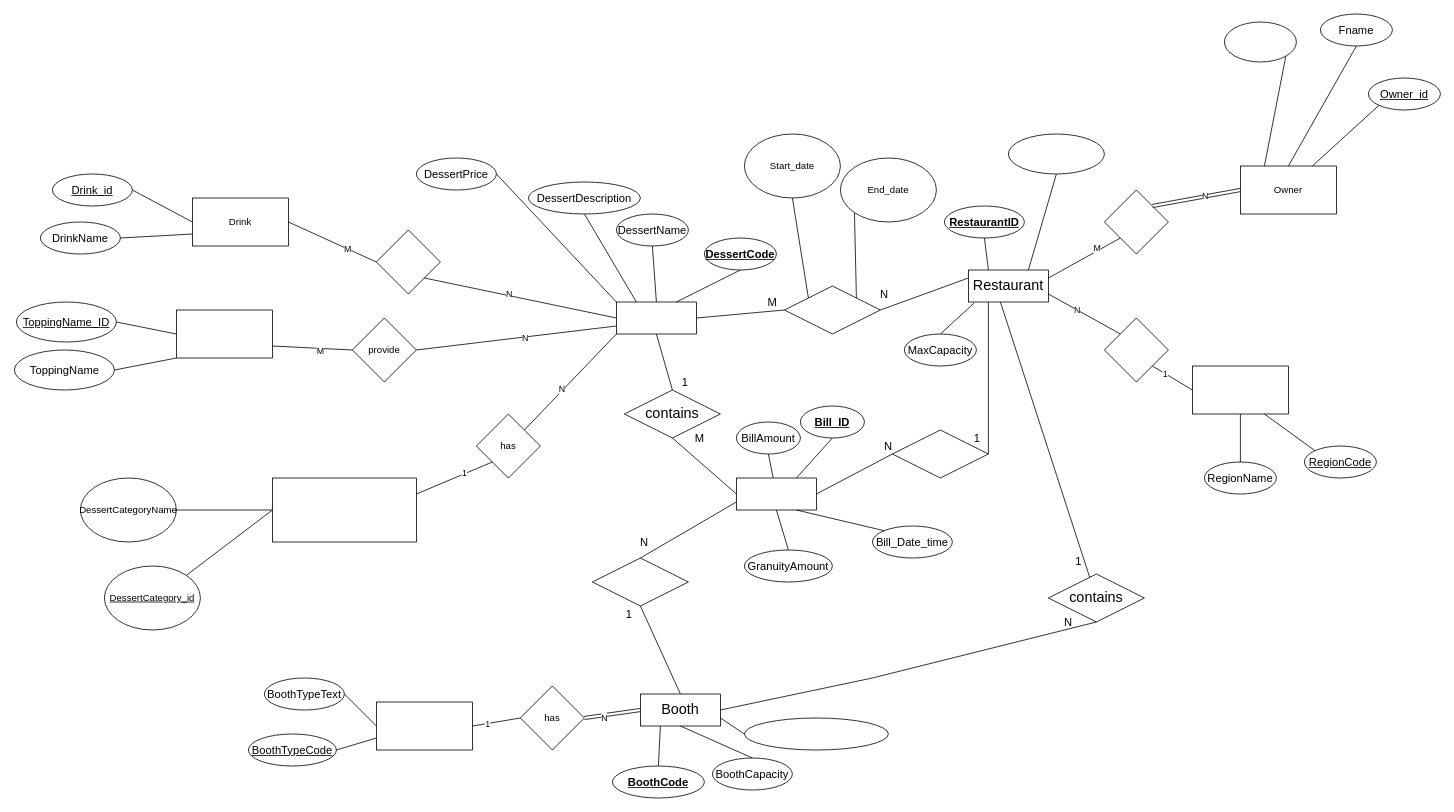
Some shapes in this 1454 by 812 pixel diagram are drawn without their labels. Here are the shapes that lost their labels. From the top down, the centre of each, then its label:
(x=1260, y=41): Ename
(x=1056, y=153): Restaurant_name
(x=1136, y=221): dominate
(x=408, y=261): contain
(x=656, y=317): Dessert
(x=832, y=309): offer
(x=224, y=333): Topping
(x=1136, y=349): position
(x=1240, y=389): Region
(x=940, y=453): process
(x=344, y=509): DessertCategory
(x=776, y=493): Bill
(x=640, y=581): generate
(x=424, y=725): Boothtype
(x=816, y=733): SmokingSectionIndicator
